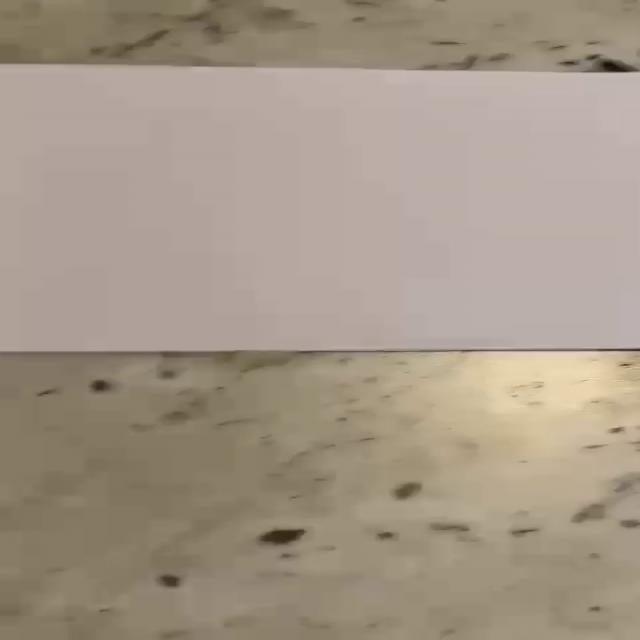road: (1, 64, 639, 352)
